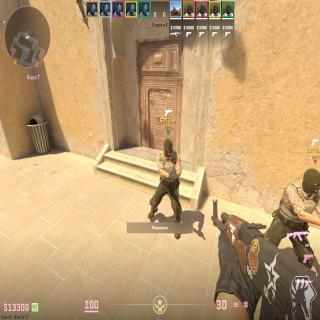T-Body: (270, 168, 320, 266), (156, 137, 181, 223)
T-Head: (301, 168, 320, 193), (163, 138, 173, 156)
